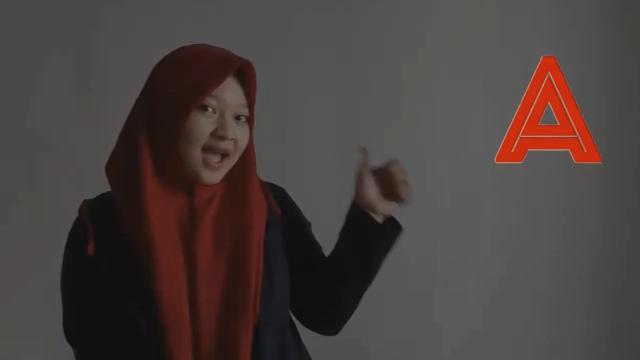A: (348, 143, 417, 217)
